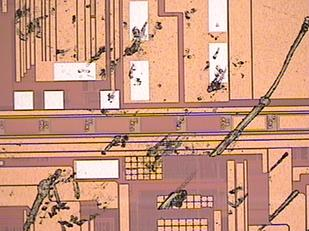SCRATCH: (12, 1, 309, 231)
